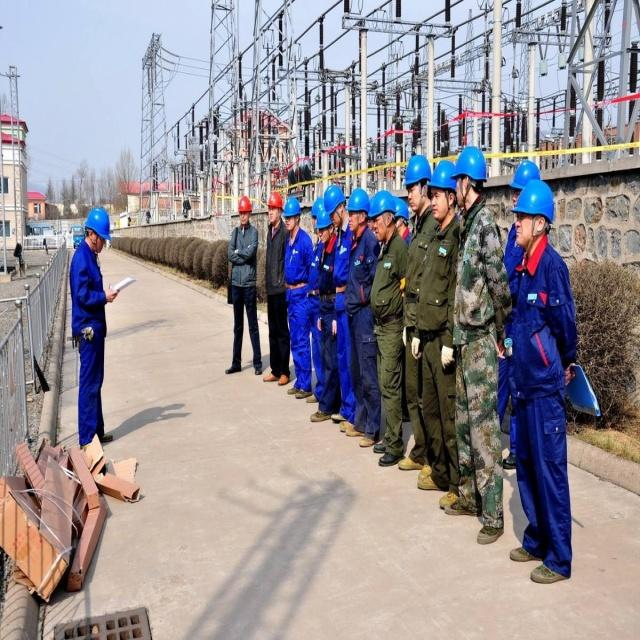helmet: (511, 241, 557, 336), (453, 196, 486, 283), (428, 209, 457, 299), (402, 205, 430, 284), (81, 276, 112, 344), (510, 212, 540, 276), (369, 255, 396, 325), (323, 244, 345, 307), (345, 252, 369, 309), (283, 259, 302, 312), (314, 278, 332, 330), (392, 263, 410, 313), (238, 260, 253, 307), (267, 256, 282, 300)
